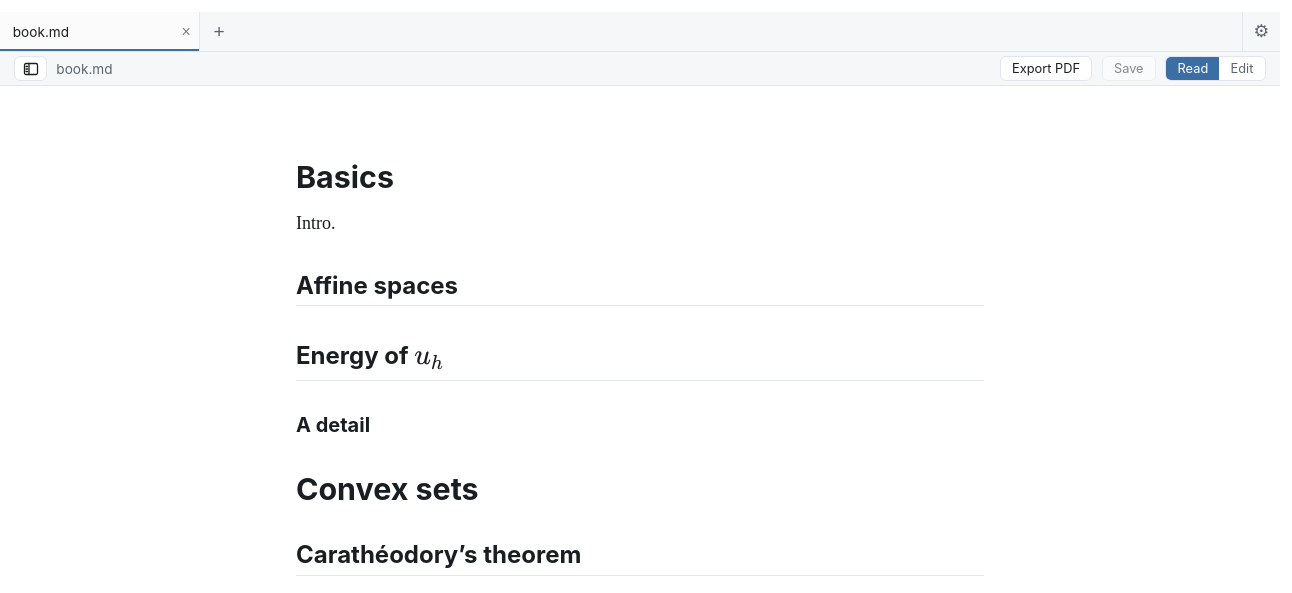
Test: Contents sidebar, markdown › isn't offered in edit mode
Click the button "Edit".
click(1242, 68)  # box x1=1219 y1=57 x2=1265 y2=80
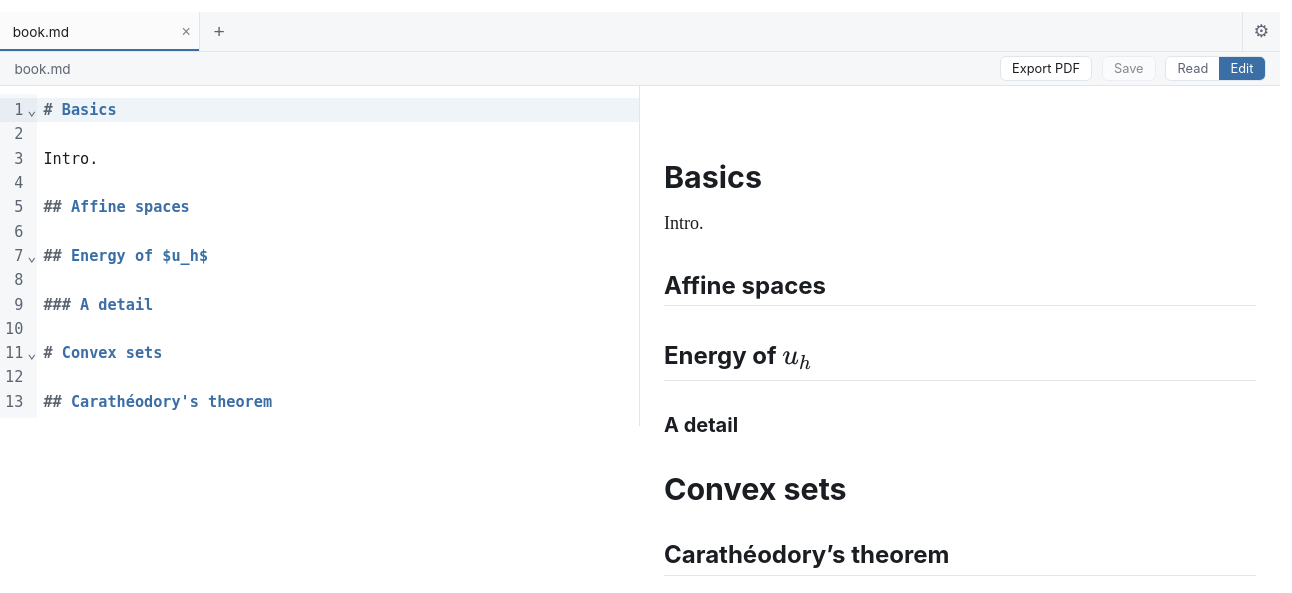
Now the button named "Contents" is gone
